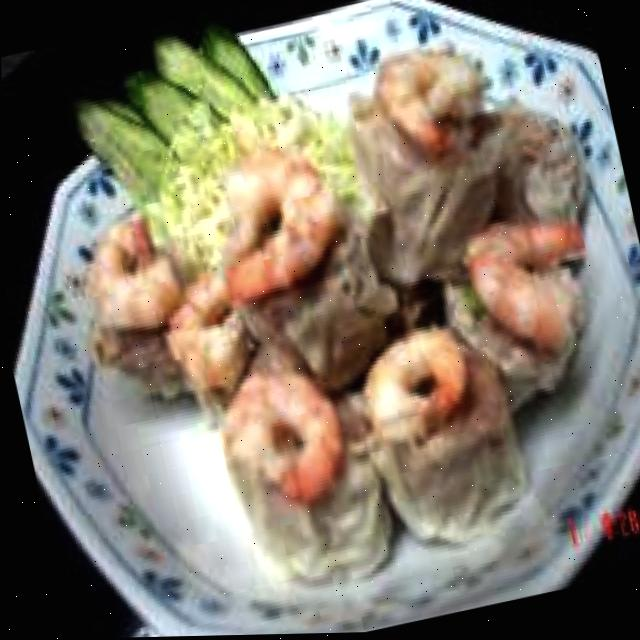带馅早点: (56, 61, 633, 593)
